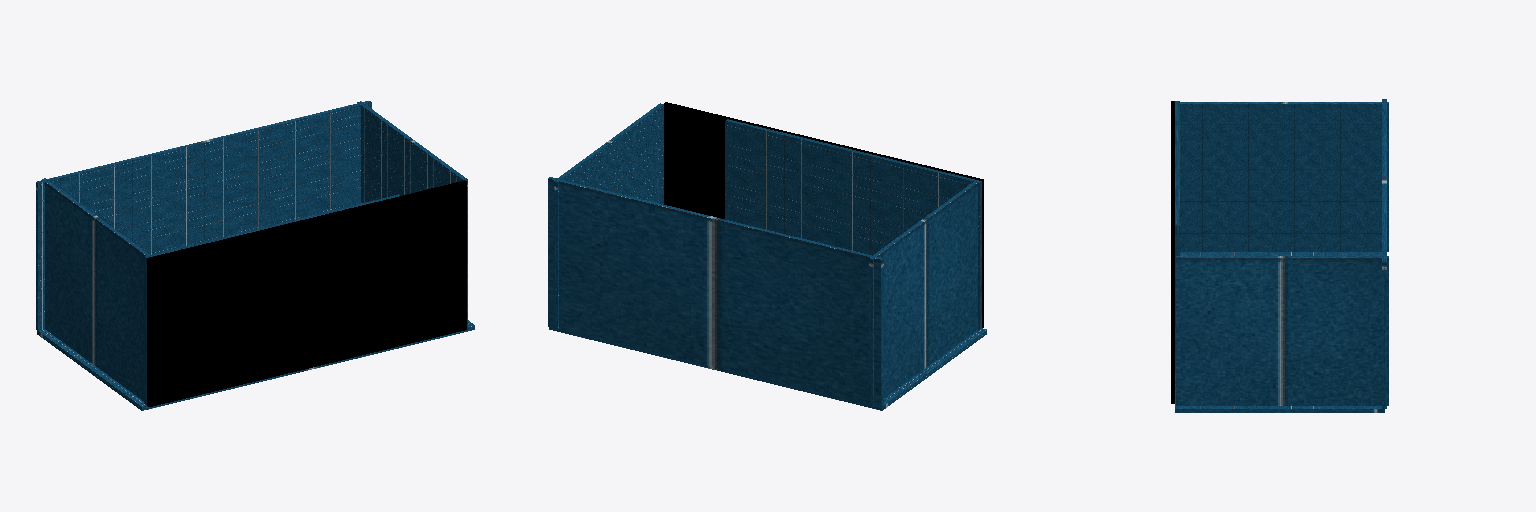
The picture shows the model from 3 angles: view 1: azimuth 30°, elevation 25°; view 2: azimuth 150°, elevation 25°; view 3: azimuth 270°, elevation 25°; orthographic projection.
Visible parts, largest first — view 1: pCube2; view 2: pCube2; view 3: pCube2.
Part boxes in pixels (left/top/right/bottom): pCube2: left=36, top=101, right=474, bottom=410; pCube2: left=548, top=102, right=986, bottom=410; pCube2: left=1171, top=99, right=1388, bottom=412.
Size of the model in its own units: 23.73 by 10.31 by 13.48.
7 materials, 1 textured.